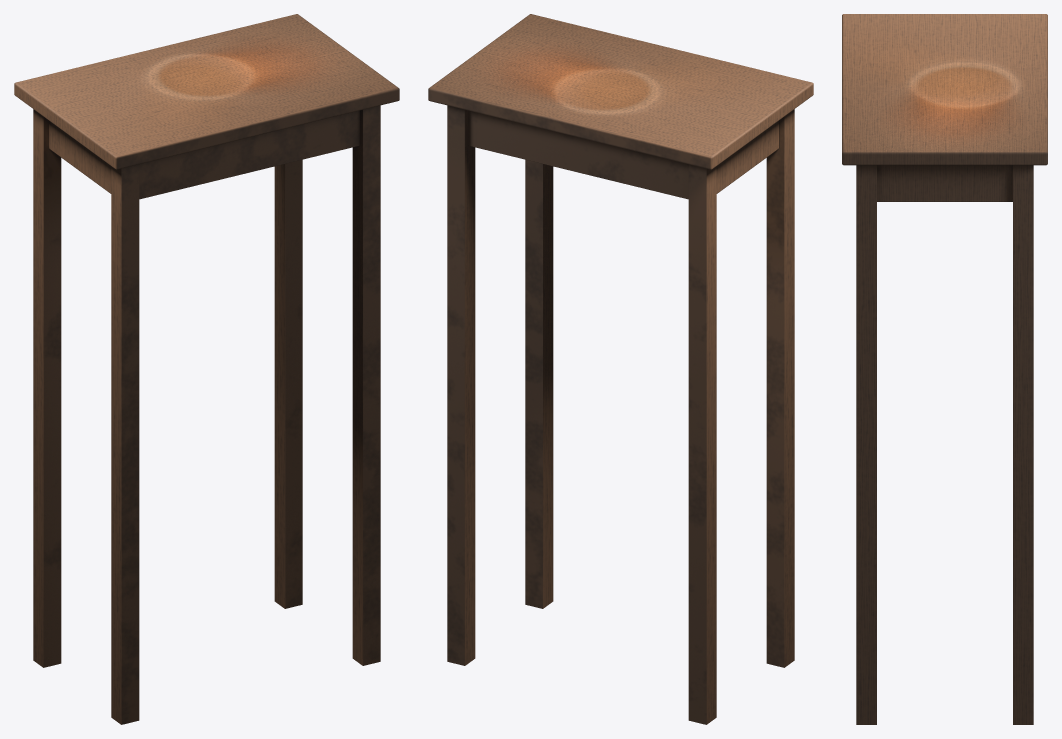
File: 809_pet.glb
The picture shows the model from 3 angles, left to right: view 1: azimuth 30°, elevation 25°; view 2: azimuth 150°, elevation 25°; view 3: azimuth 270°, elevation 25°; orthographic projection.
Parts seen in each view (by area): view 1: Table; view 2: Table; view 3: Table.
Boxes of the visible parts, x1,y1,x2,y2 form: Table: (14, 14, 399, 724); Table: (428, 14, 813, 724); Table: (842, 14, 1047, 724).
Size of what is drawn, in the model's own units: 1.6 by 3.1 by 1.
Materials: 1 (1 with a texture image).
